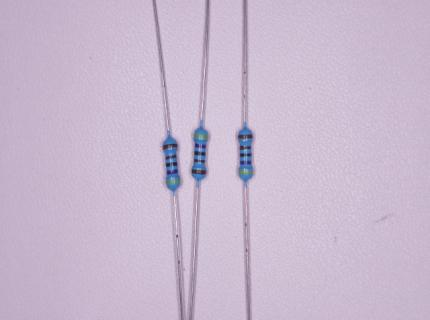Black band: (194, 150, 206, 156), (166, 162, 177, 167), (240, 153, 251, 157)
Brown band: (162, 143, 178, 150), (238, 134, 253, 139), (165, 154, 177, 160), (192, 170, 206, 175), (194, 159, 205, 163), (240, 146, 251, 150)
Violet band: (166, 169, 178, 175), (195, 144, 206, 149), (240, 161, 251, 165)
Yellow band: (166, 179, 180, 183), (194, 135, 208, 139), (239, 171, 253, 174)
